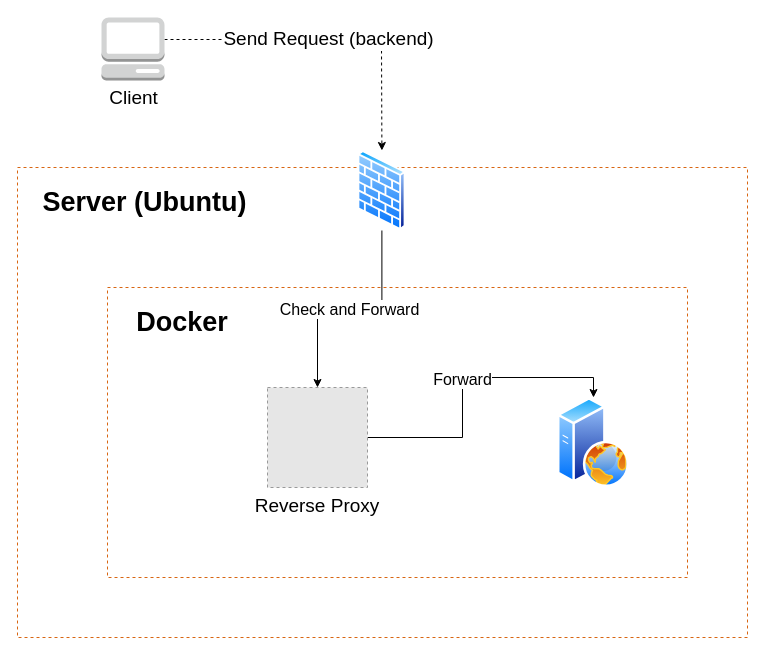
Some shapes in this 765 by 655 pixel diagram are drawn without their labels. Grey dashed boxes stand in for pictures. The centre of each missing label's shape, as x and y in pixels:
"Backend Web Server" belongs at point (593, 442).
"Firewall UFW" belongs at point (381, 190).
